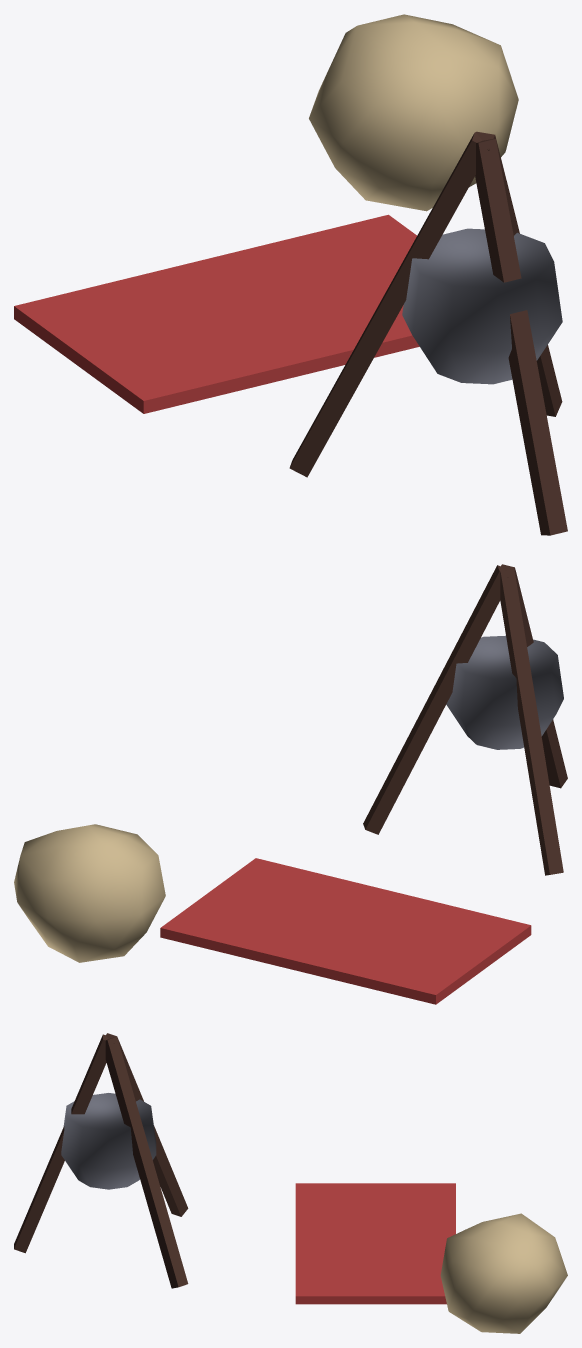
Rendered from camp_set.glb.
3 renders of one model, top to bottom at view 1: azimuth 30°, elevation 25°; view 2: azimuth 150°, elevation 25°; view 3: azimuth 270°, elevation 25°, orthographic. The views are drawn at different scales.
Parts seen in each view (by area): view 1: mat, pack, pot, tripod.002, tripod, tripod.001; view 2: mat, pack, pot, tripod, tripod.001, tripod.002; view 3: mat, pack, pot, tripod.001, tripod.002, tripod.
Boxes of the visible parts, box(x1,y1,x2,y2) form: mat: box(14, 214, 419, 413); pack: box(309, 14, 518, 211); pot: box(402, 228, 562, 384); tripod.002: box(469, 138, 567, 535); tripod: box(289, 132, 489, 477); tripod.001: box(476, 131, 562, 416); mat: box(160, 858, 531, 1004); pack: box(14, 824, 165, 962); pot: box(446, 635, 563, 749); tripod: box(500, 569, 563, 875); tripod.001: box(363, 565, 504, 834); tripod.002: box(495, 564, 567, 788); mat: box(295, 1183, 455, 1304); pack: box(440, 1213, 567, 1333); pot: box(61, 1093, 156, 1189); tripod.001: box(105, 1037, 188, 1288); tripod.002: box(14, 1034, 114, 1253); tripod: box(100, 1033, 188, 1216).
Bounding box in the file's own units: 2.1 × 1.33 × 3.11.
